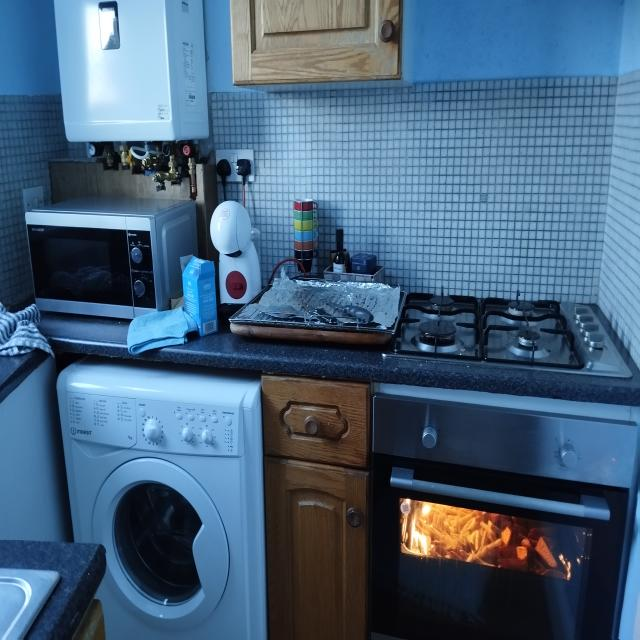cabinet: (262, 376, 371, 639), (238, 0, 395, 87)
countertop: (143, 334, 640, 397), (0, 540, 106, 639)
microwave: (26, 196, 200, 319)
oven: (368, 384, 639, 640)
sofa: (392, 294, 595, 370)
